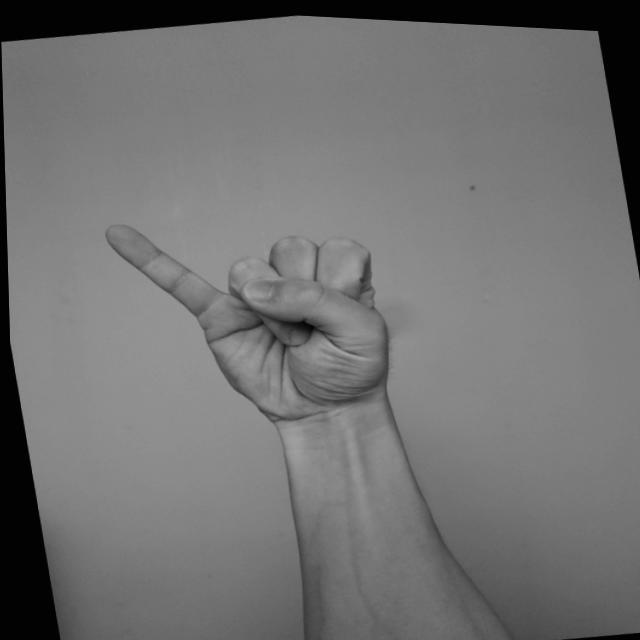I: (95, 182, 409, 446)
